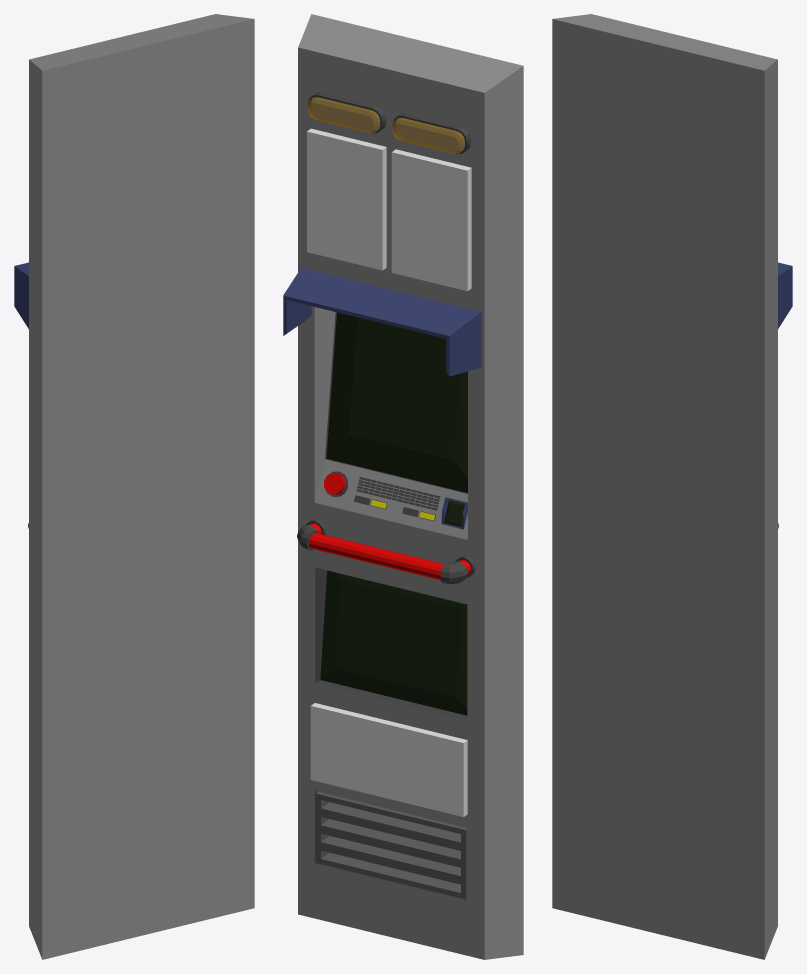
The model's file is ControlPanel.fbx.
3 renders of one model, left to right at view 1: azimuth 30°, elevation 25°; view 2: azimuth 150°, elevation 25°; view 3: azimuth 330°, elevation 25°, orthographic.
Visible parts, largest first — view 1: Control_Panel; view 2: Control_Panel, Control_Panel_Screen1, Control_Panel_Screen3; view 3: Control_Panel.
Boxes of the visible parts, x1,y1,x2,y2 form: Control_Panel: (14, 14, 254, 959); Control_Panel: (283, 14, 523, 959); Control_Panel_Screen1: (326, 312, 467, 492); Control_Panel_Screen3: (320, 570, 467, 715); Control_Panel: (552, 14, 792, 959).
Bounding box in the file's own units: 50 × 200 × 20.9.
